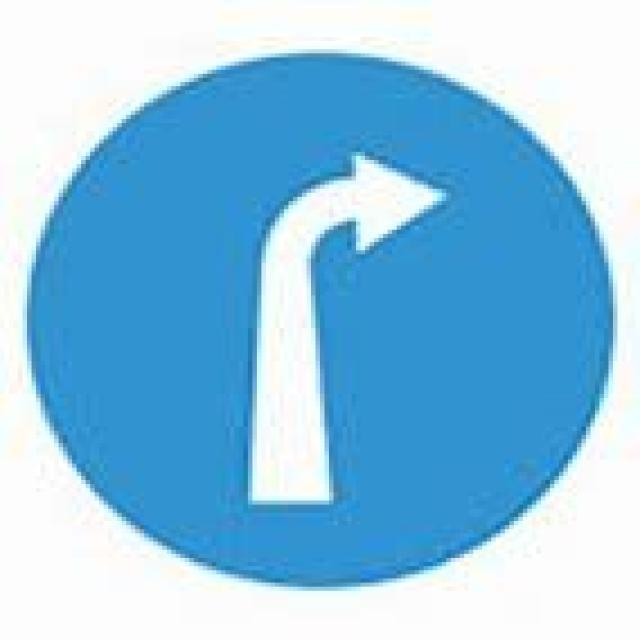compulsary turn right ahead: (34, 56, 599, 592)
